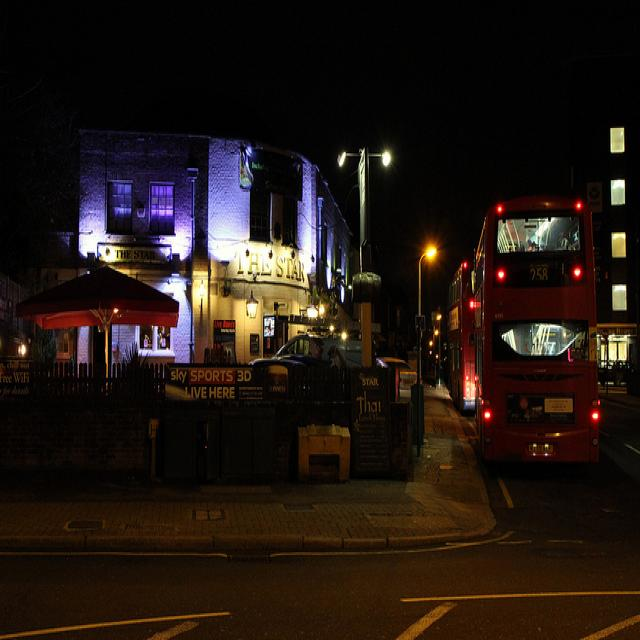Bus: (478, 188, 620, 495), (432, 223, 487, 446)
car: (232, 314, 393, 416)
